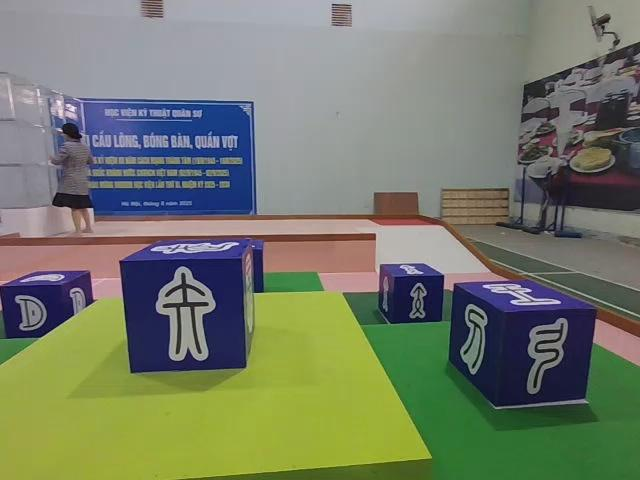R2 Fake Blue: (453, 280, 599, 411), (123, 241, 257, 378)
R2 Real Blue: (2, 272, 96, 342), (0, 272, 91, 341), (379, 262, 446, 324)
